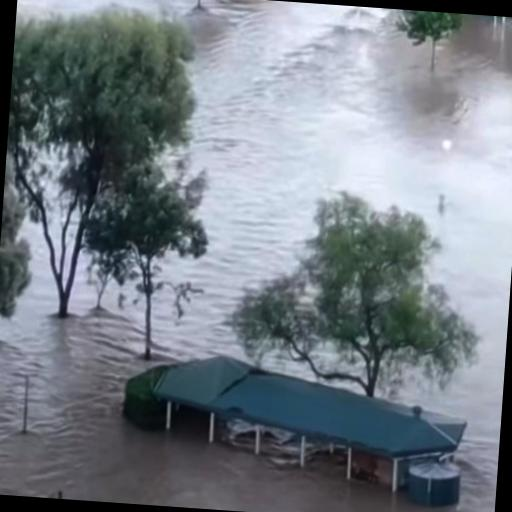flood: (16, 0, 512, 512), (0, 221, 439, 512)
house: (150, 345, 472, 510)
